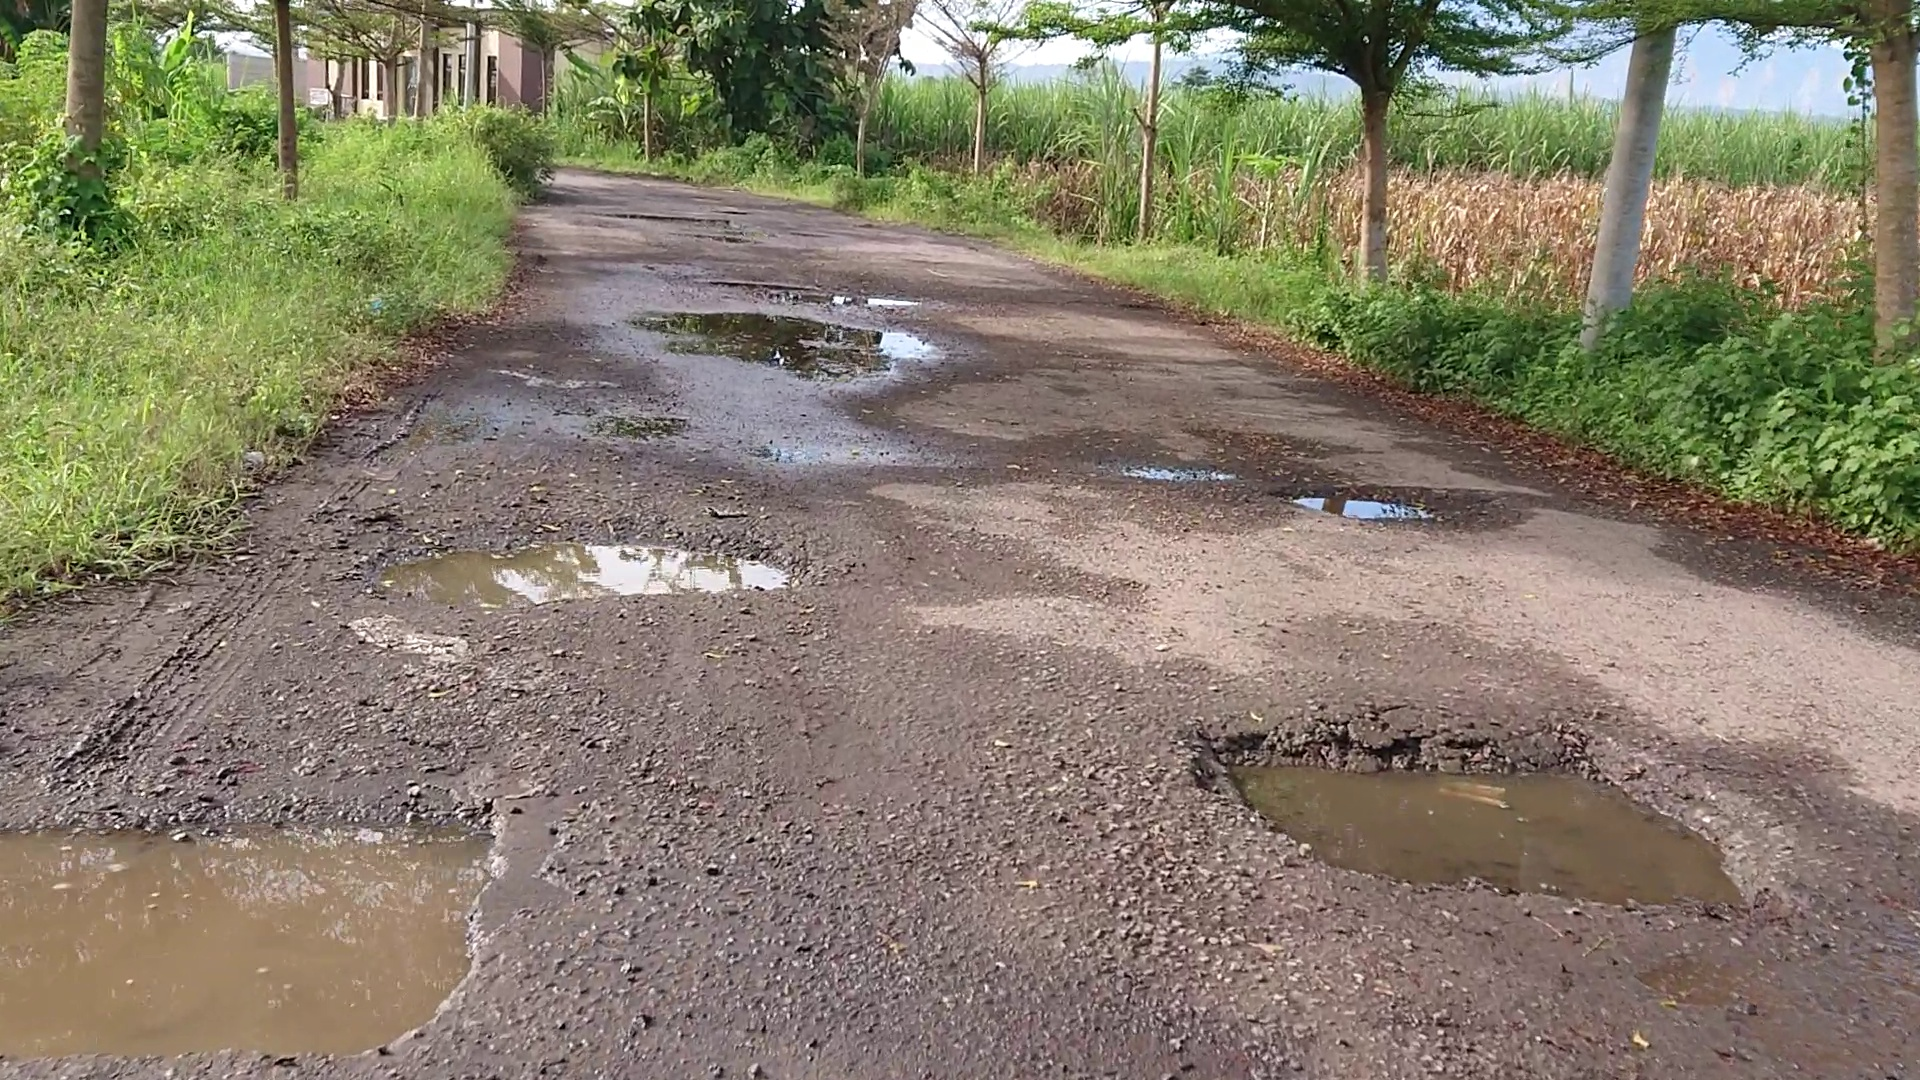Berlubang: (1, 822, 501, 1044), (1222, 758, 1742, 909), (357, 543, 793, 597), (626, 309, 928, 380), (1286, 484, 1472, 529)
